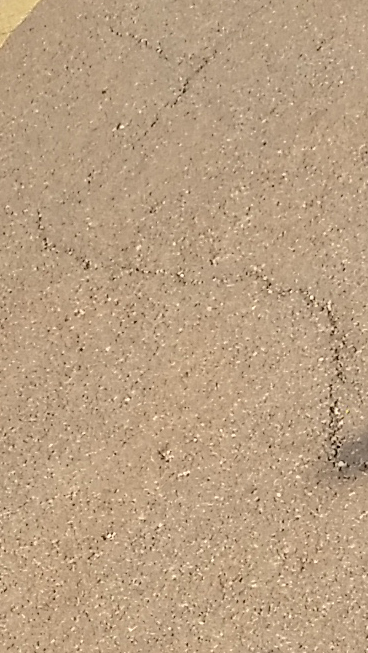A: (26, 199, 361, 487)
